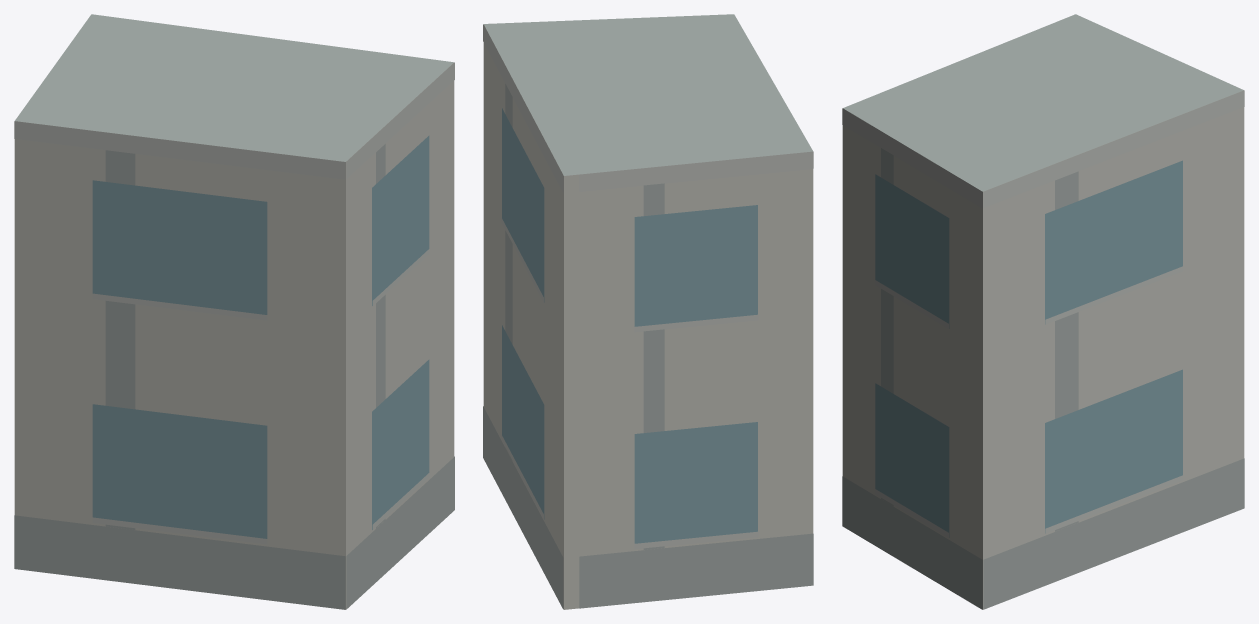
The model's file is survey-upis-32646964.glb.
The picture shows the model from 3 angles, left to right: view 1: azimuth 30°, elevation 25°; view 2: azimuth 150°, elevation 25°; view 3: azimuth 270°, elevation 25°; orthographic projection. The views are drawn at different scales.
Parts seen in each view (by area): view 1: survey-upis-32646964.tmp; view 2: survey-upis-32646964.tmp; view 3: survey-upis-32646964.tmp.
Part boxes in pixels (bbox=[...]): survey-upis-32646964.tmp: bbox=[14, 14, 454, 609]; survey-upis-32646964.tmp: bbox=[483, 14, 813, 609]; survey-upis-32646964.tmp: bbox=[842, 14, 1244, 609].
Bounding box in the file's own units: 5.57 × 6.1 × 5.32.
